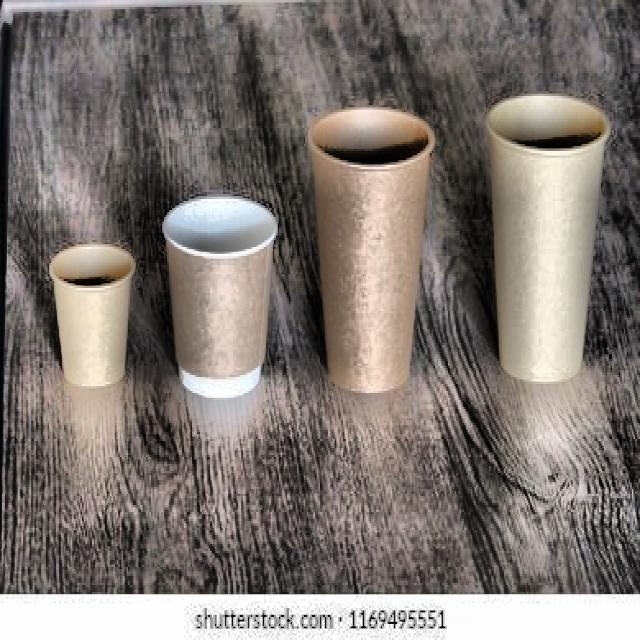Cup: (302, 99, 442, 410), (478, 82, 616, 388), (162, 195, 285, 398), (42, 238, 143, 390)
